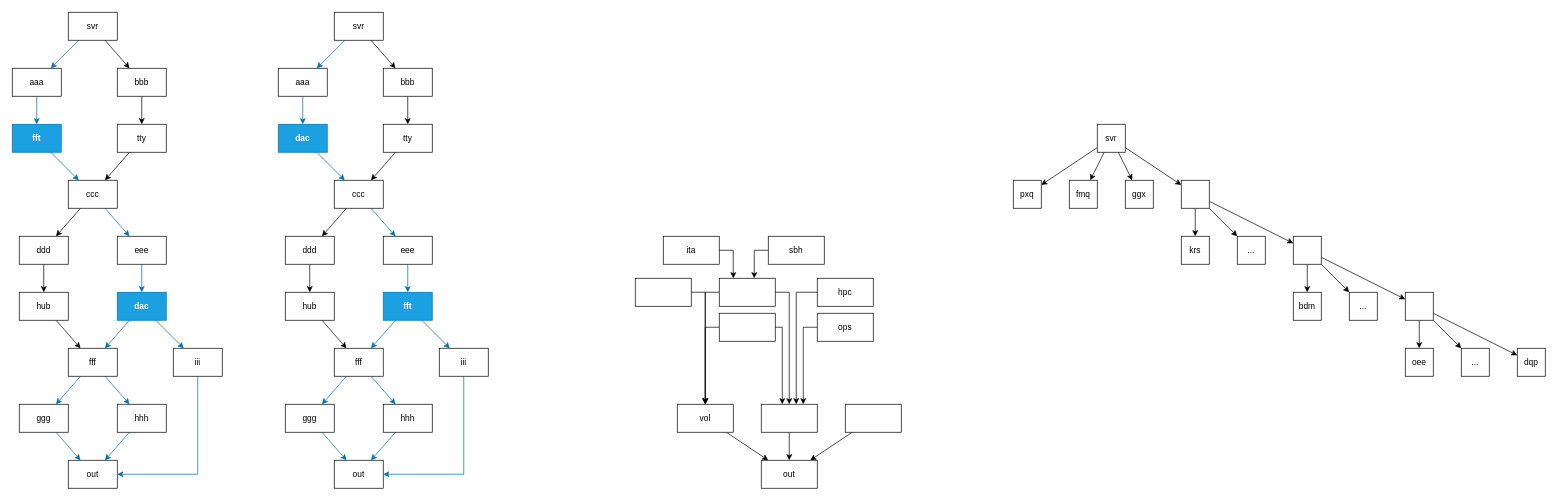
The diagram is 1558 pixels wide and 501 high, and some of its shapes have lost their labels. Each missing label, with the centre of its shape:
"amb" goes at point (1419, 306).
"ked" goes at point (873, 418).
"lgk" goes at point (789, 418).
"oll" goes at point (747, 327).
"ora" goes at point (1195, 194).
"pci" goes at point (1307, 250).
"sjz" goes at point (747, 292).
"xwe" goes at point (663, 292).
